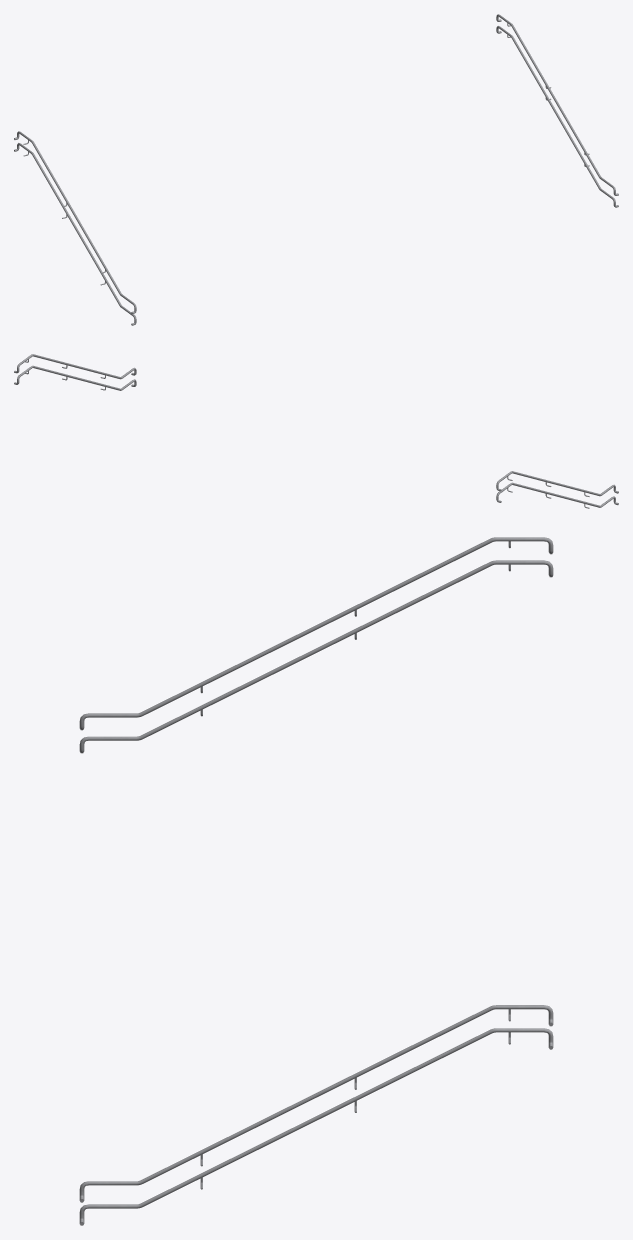
File: gteki_ik_stair_n9_r169_t308_w8615_rails_wall.glb
3 renders of one model, top to bottom at view 1: azimuth 30°, elevation 25°; view 2: azimuth 150°, elevation 25°; view 3: azimuth 270°, elevation 25°, orthographic. The views are drawn at different scales.
Parts seen in each view (by area): view 1: VIS_handrails; view 2: VIS_handrails; view 3: VIS_handrails.
Boxes of the visible parts, bbox=[...] form: VIS_handrails: bbox=[14, 14, 618, 325]; VIS_handrails: bbox=[14, 354, 618, 507]; VIS_handrails: bbox=[79, 537, 553, 1225].
Bounding box in the file's own units: 8.84 × 1.87 × 3.71.
Materials: 1 (1 with a texture image).
